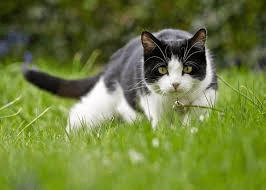cat: (26, 30, 215, 123)
